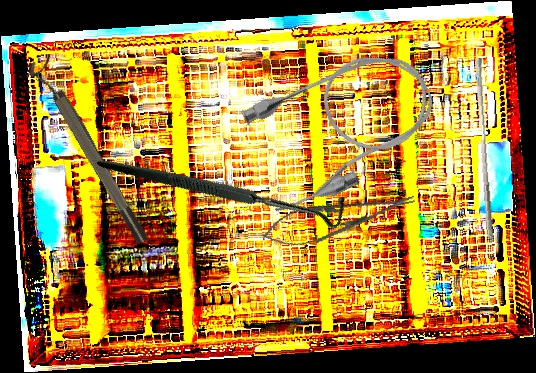Cannula: (229, 33, 453, 222)
Fixation Ring: (24, 53, 153, 251)
Hook Surgical: (96, 60, 355, 310)
Needle Holder: (257, 181, 420, 256)
Pusher: (468, 56, 501, 241)
